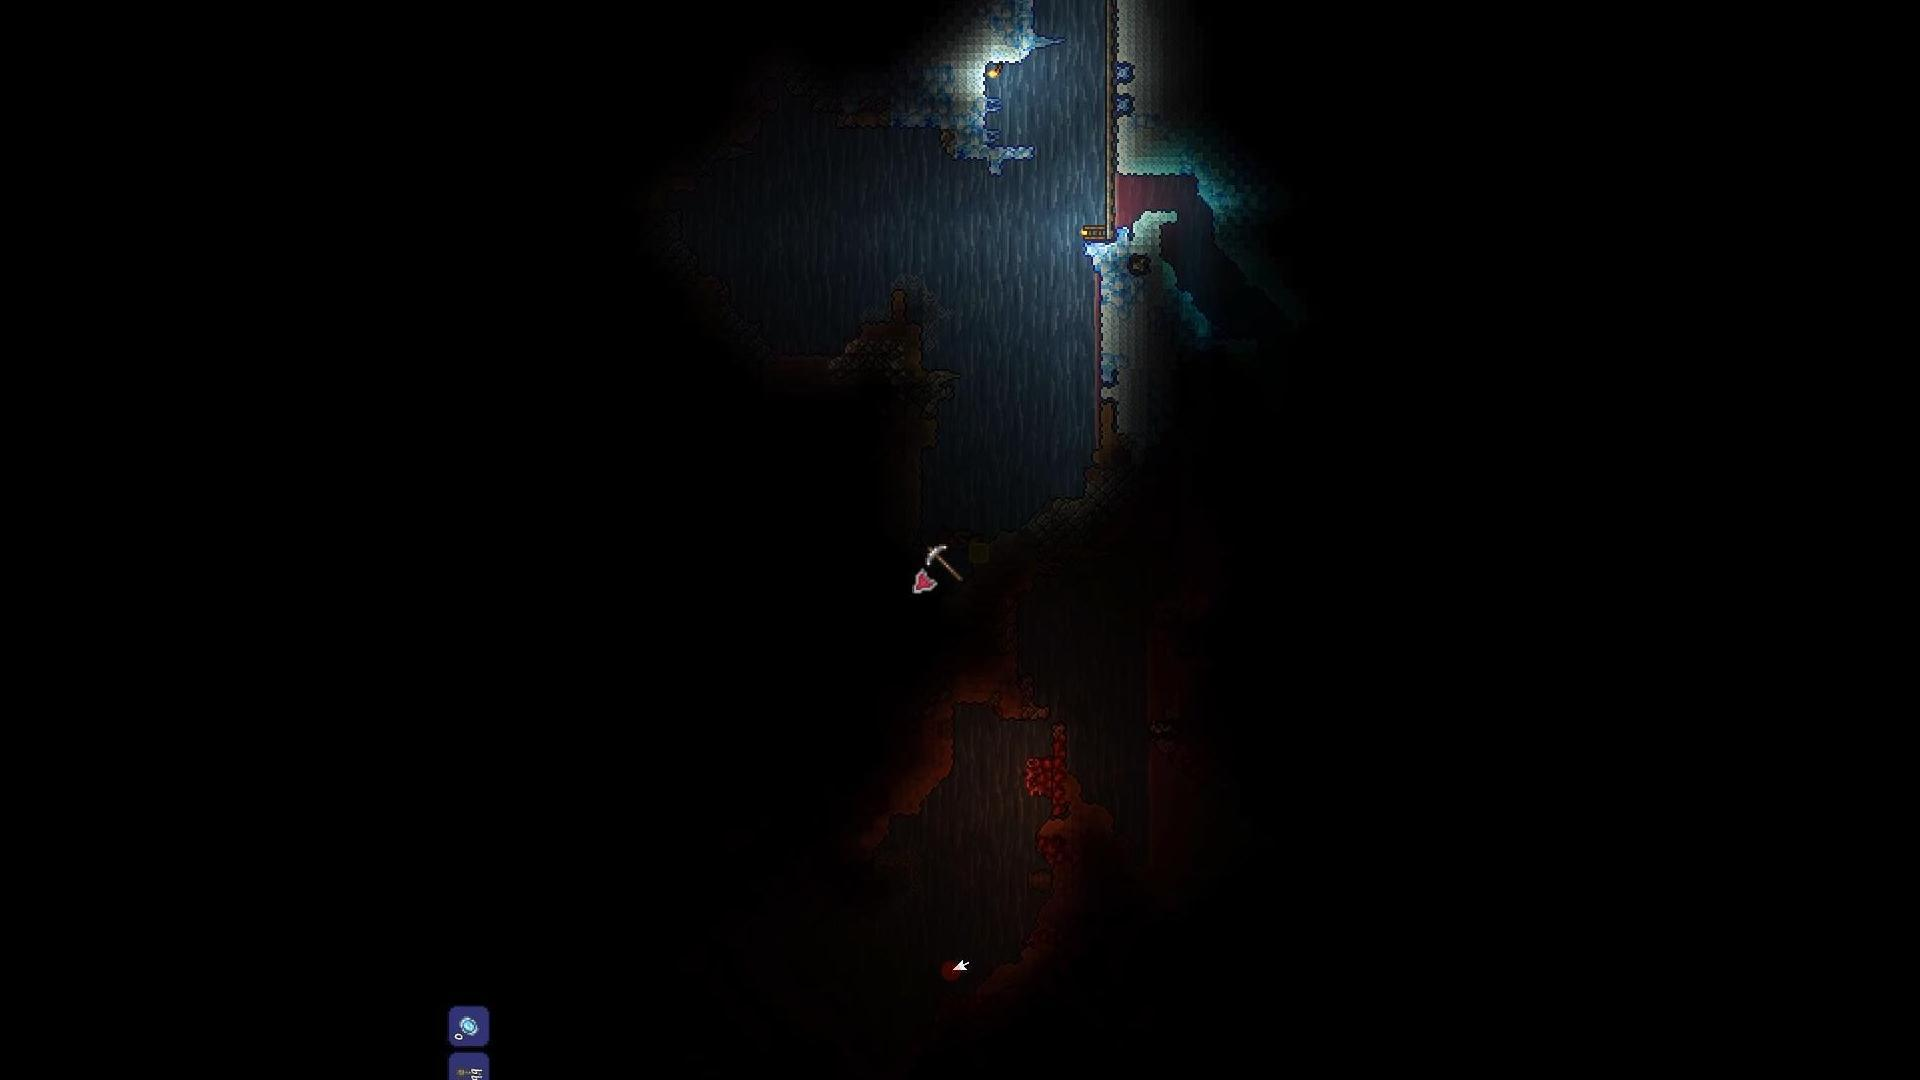altar: (1021, 752, 1059, 800)
